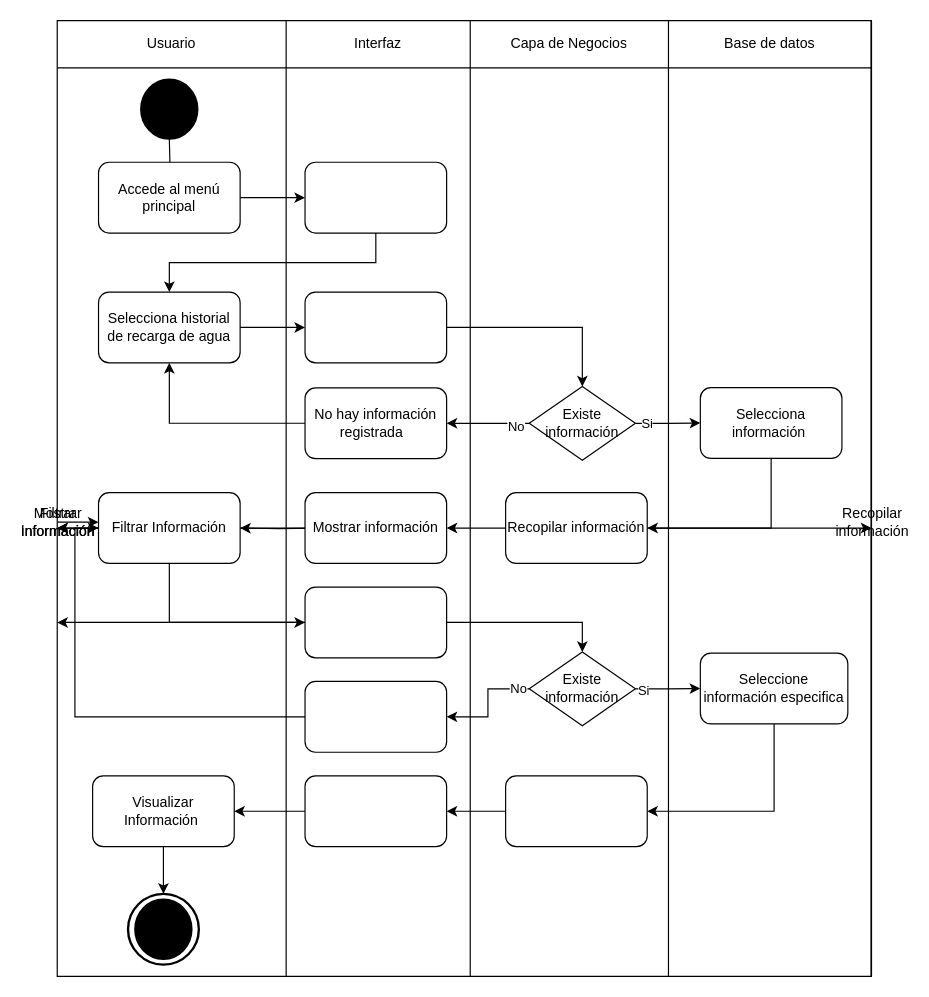
The diagram is 929 pixels wide and 997 high, and some of its shapes have lost their labels. The box of each missing label's shape, as (x1, y1, x2, y2) in pixels:
Barra de busqueda: (304, 586, 447, 658)
Historial de recarga de agua: (304, 291, 447, 363)
Mostrar Información Seleccionada: (304, 775, 447, 847)
Navbar General: (304, 161, 447, 233)
No existe información especificada: (304, 680, 447, 752)
Recopila información seleccionada: (504, 775, 647, 847)
